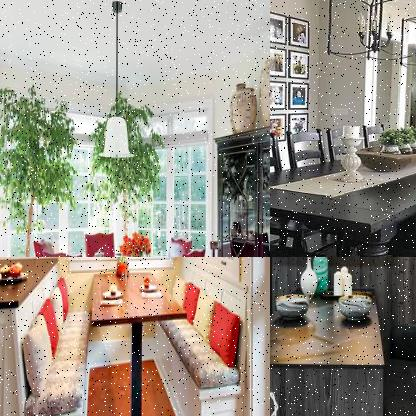table: (270, 131, 415, 256), (270, 284, 391, 415), (88, 262, 191, 415)
